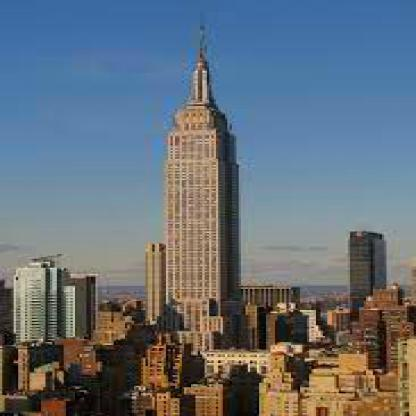Empire-State-building: (160, 4, 242, 297)
